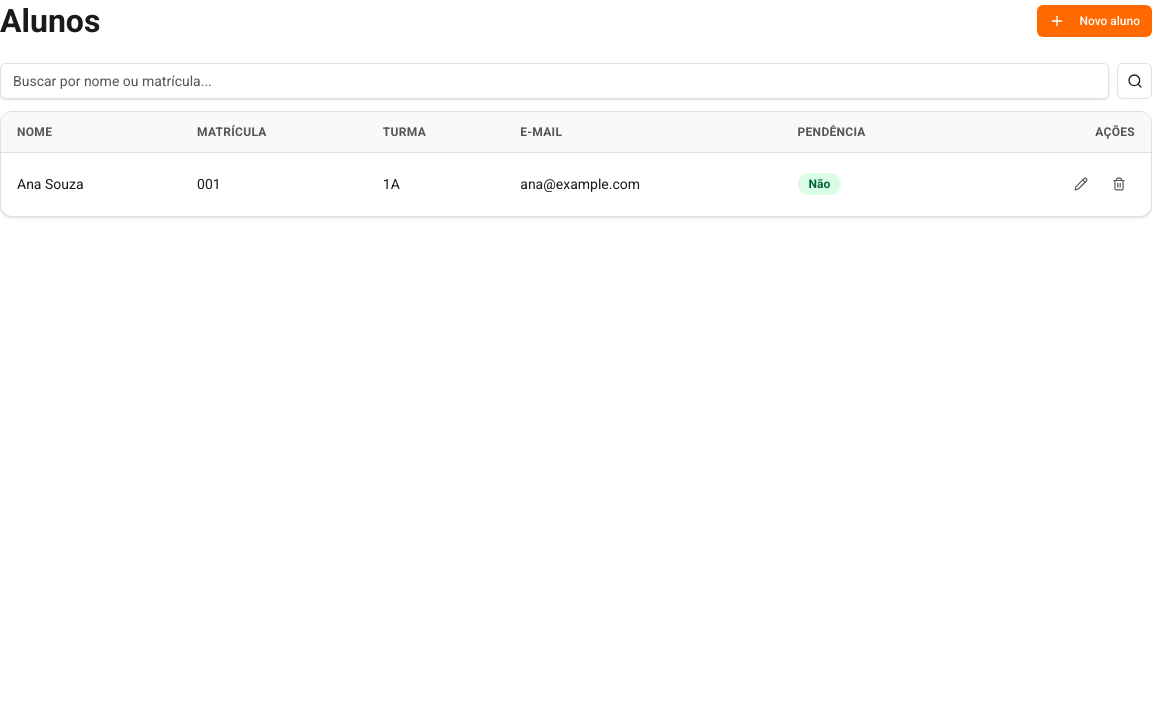
Test case: AlunosPage (staff) › opens the create drawer with the form fields
Expected: the text "Ana Souza" is shown, [1,152,181,216]
Click the button "Novo aluno": (1095, 21) [1037,5,1151,37]
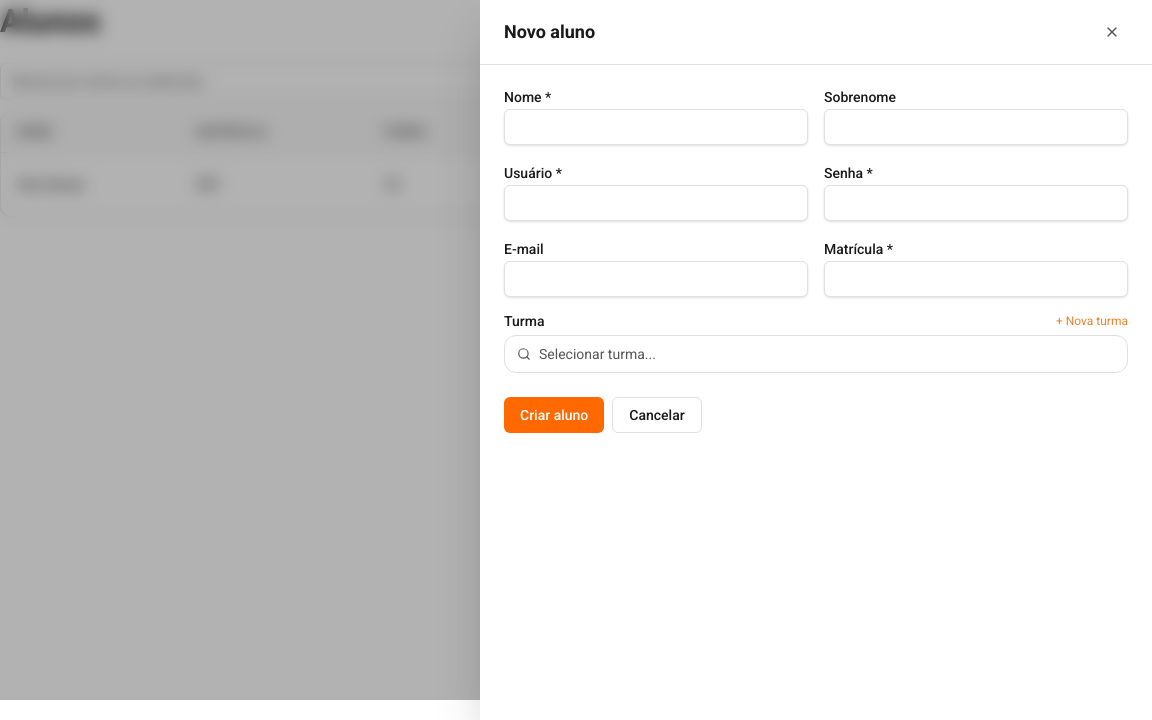
Result: the text "Matrícula *" is shown at [824,241,893,257]
Result: the text "Usuário *" is shown at [504,165,562,181]
